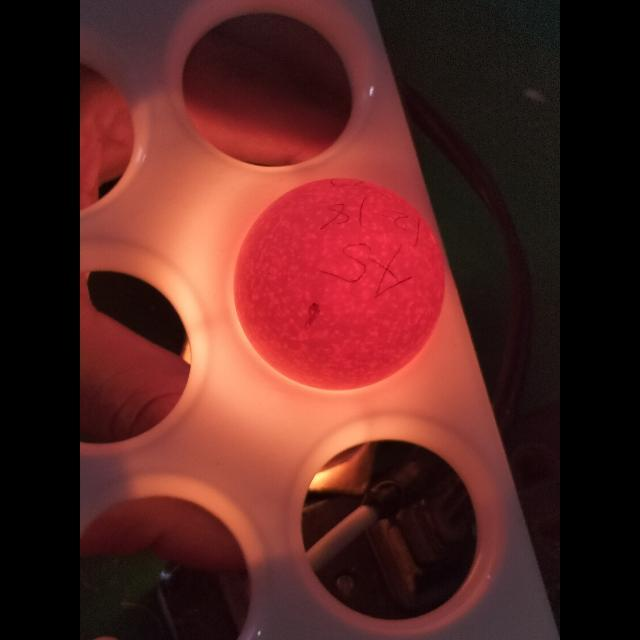Infertile: (234, 173, 448, 391)
